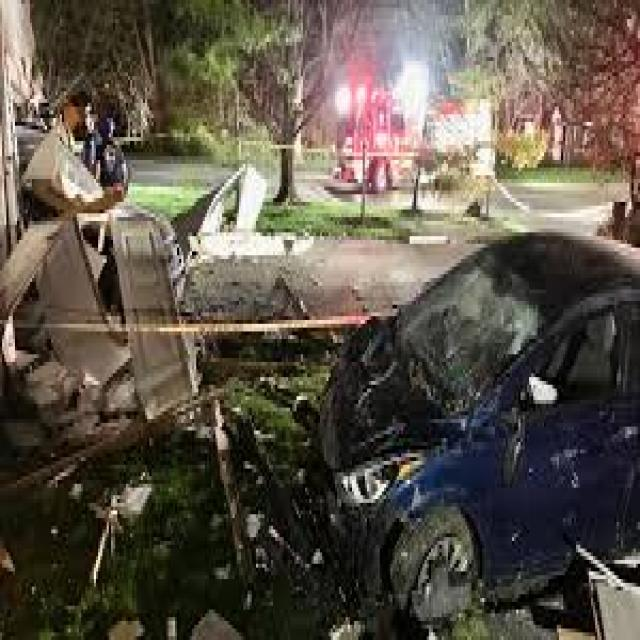accident: (285, 171, 626, 592)
